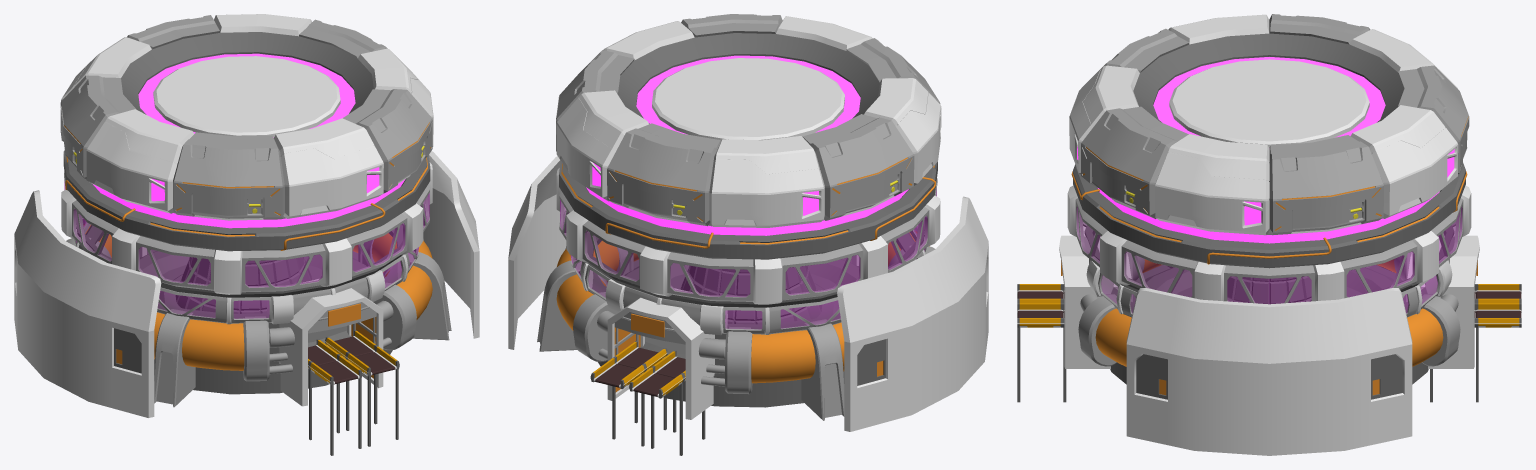
Rendered from fusion_reactor.fbx.
The picture shows the model from 3 angles, left to right: view 1: azimuth 30°, elevation 25°; view 2: azimuth 150°, elevation 25°; view 3: azimuth 270°, elevation 25°; orthographic projection. The views are drawn at different scales.
Parts seen in each view (by area): view 1: fusion_reactor_top, fusion_reactor_side, fusion_reactor_top_window_frame, fusion_reactor_middle, fusion_reactor_lower.002, fusion_reactor_lower, fusion_reactor_top_window, fusion_reactor_center_base, fusion_reactor_center_entry, fusion_reactor_lower_window_frame, fusion_reactor_center, fusion_reactor_lower_window (+5 smaller); view 2: fusion_reactor_top, fusion_reactor_side, fusion_reactor_top_window_frame, fusion_reactor_middle, fusion_reactor_lower.002, fusion_reactor_lower, fusion_reactor_top_window, fusion_reactor_center_base, fusion_reactor_center_entry.001, fusion_reactor_lower_window_frame, fusion_reactor_center, fusion_reactor_lower_window (+5 smaller); view 3: fusion_reactor_top, fusion_reactor_side, fusion_reactor_top_window_frame, fusion_reactor_middle, fusion_reactor_top_window, fusion_reactor_lower, fusion_reactor_lower.002, fusion_reactor_center_entry, fusion_reactor_center_entry.001, fusion_reactor_lower_window_frame, fusion_reactor_center_base, fusion_reactor_center (+5 smaller).
Boxes of the visible parts, x1,y1,x2,y2 form: fusion_reactor_top: (60, 14, 433, 228); fusion_reactor_side: (14, 151, 479, 417); fusion_reactor_top_window_frame: (61, 162, 432, 294); fusion_reactor_middle: (63, 150, 430, 251); fusion_reactor_lower.002: (66, 218, 451, 407); fusion_reactor_lower: (84, 224, 432, 374); fusion_reactor_top_window: (64, 181, 429, 287); fusion_reactor_center_base: (86, 224, 413, 394); fusion_reactor_center_entry: (279, 279, 383, 406); fusion_reactor_lower_window_frame: (74, 211, 418, 324); fusion_reactor_center: (175, 257, 312, 313); fusion_reactor_lower_window: (76, 219, 418, 318); fusion_reactor_top: (556, 14, 941, 235); fusion_reactor_side: (508, 156, 988, 431); fusion_reactor_top_window_frame: (556, 168, 940, 304); fusion_reactor_middle: (559, 152, 937, 259); fusion_reactor_lower.002: (537, 226, 935, 420); fusion_reactor_lower: (556, 231, 929, 386); fusion_reactor_top_window: (560, 189, 936, 296); fusion_reactor_center_base: (576, 232, 914, 407); fusion_reactor_center_entry.001: (607, 288, 714, 419); fusion_reactor_lower_window_frame: (571, 218, 926, 335); fusion_reactor_center: (680, 265, 822, 324); fusion_reactor_lower_window: (571, 226, 924, 329); fusion_reactor_top: (1069, 14, 1469, 243); fusion_reactor_side: (1126, 288, 1412, 455); fusion_reactor_top_window_frame: (1067, 185, 1471, 303); fusion_reactor_middle: (1071, 163, 1467, 268); fusion_reactor_top_window: (1077, 207, 1461, 303); fusion_reactor_lower: (1080, 259, 1458, 366); fusion_reactor_lower.002: (1078, 256, 1460, 366); fusion_reactor_center_entry: (1059, 235, 1132, 368); fusion_reactor_center_entry.001: (1406, 235, 1479, 368); fusion_reactor_lower_window_frame: (1084, 225, 1454, 316); fusion_reactor_center_base: (1106, 265, 1432, 384); fusion_reactor_center: (1227, 181, 1311, 304).
Bounding box in the file's own units: 10.91 × 7.19 × 11.
